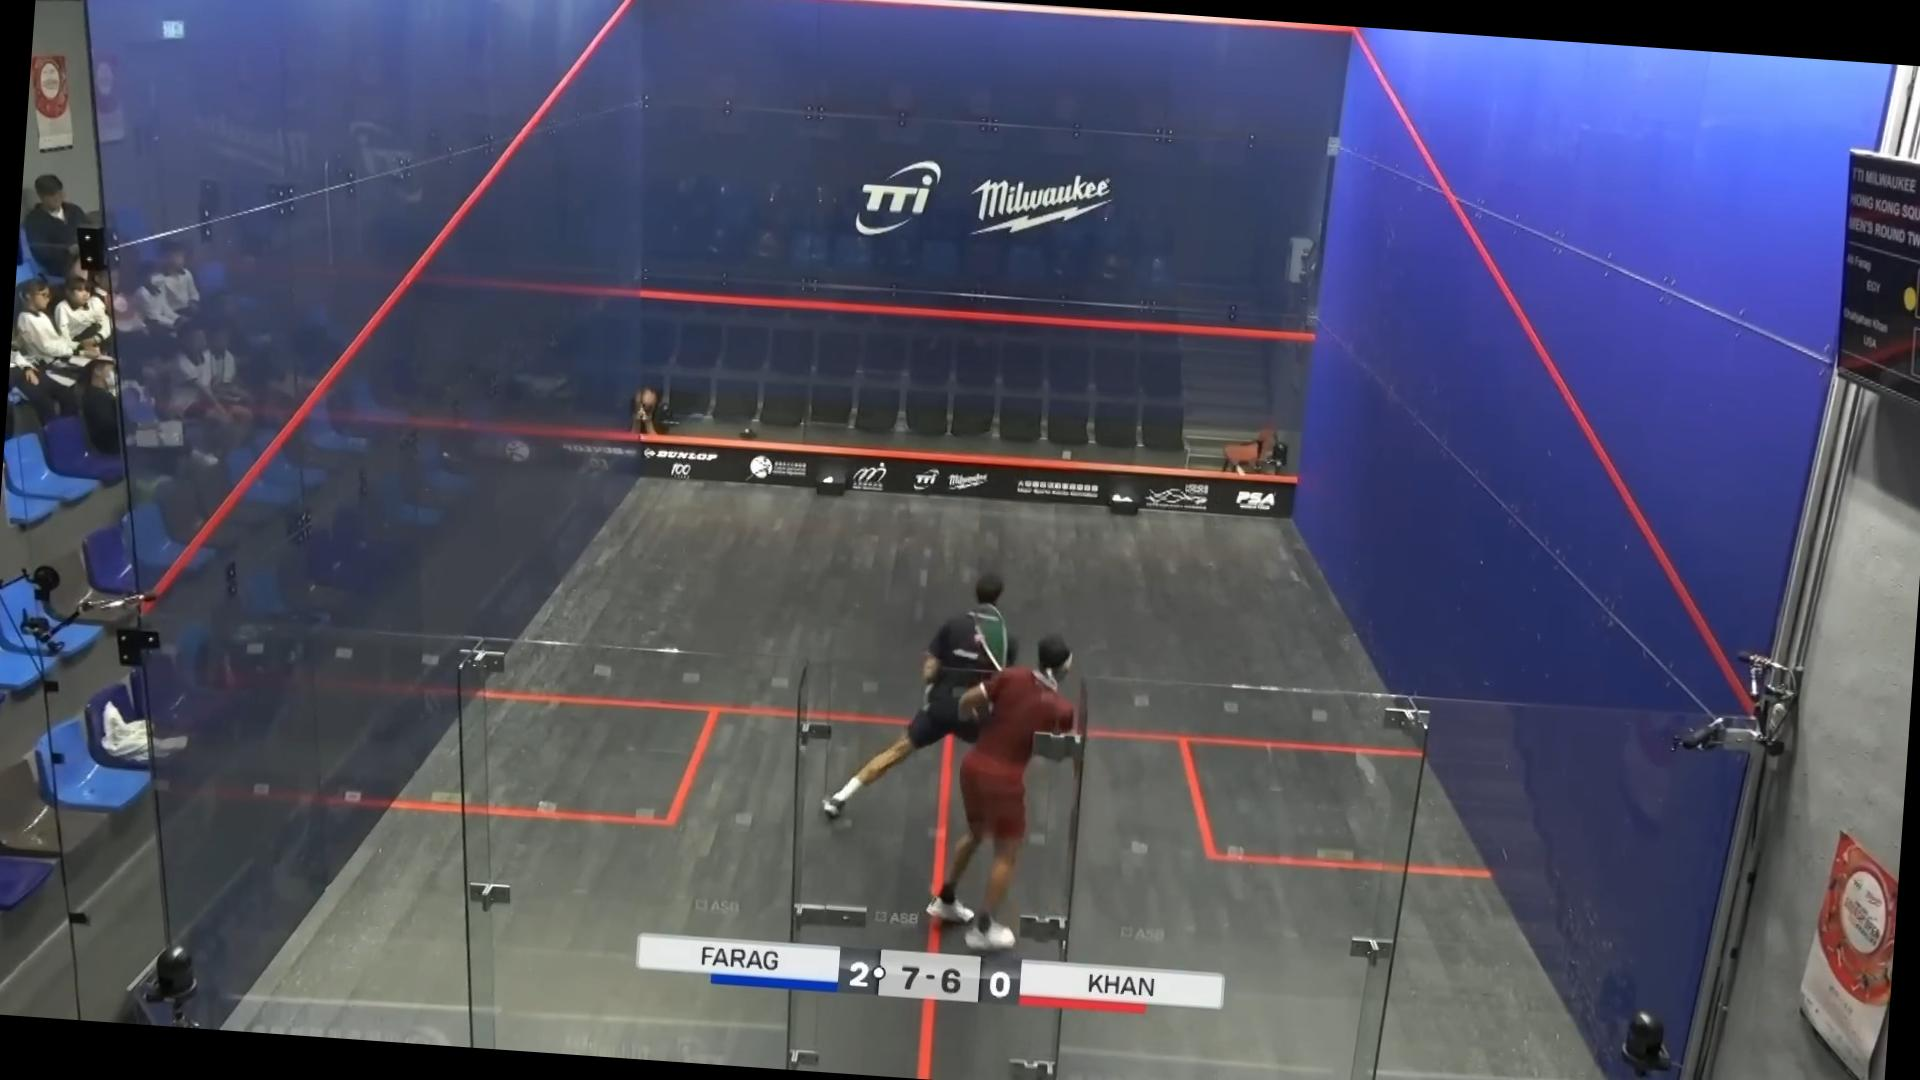Racket: (968, 596, 1013, 678)
